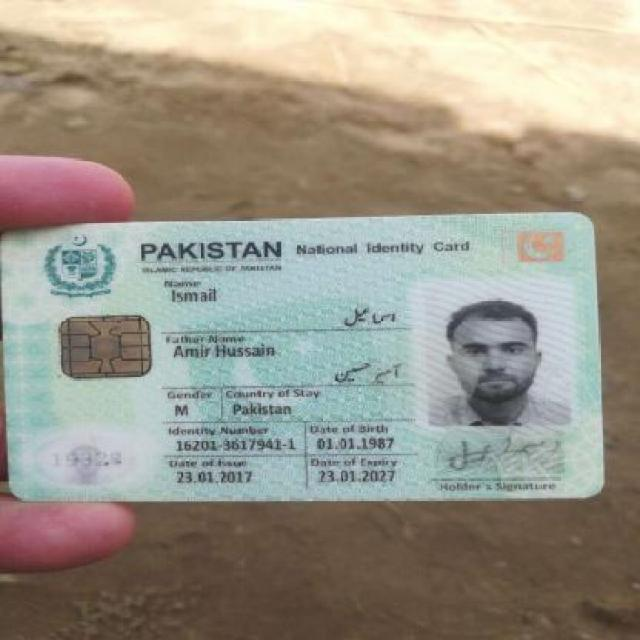Front: (8, 214, 604, 500)
